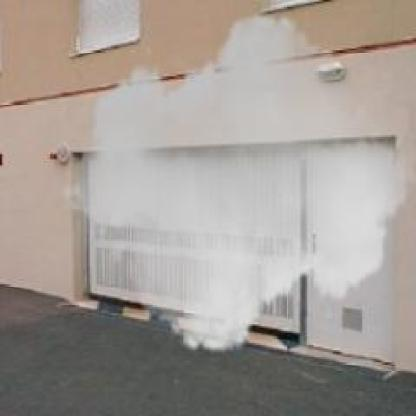Smoke: (60, 0, 414, 367)
